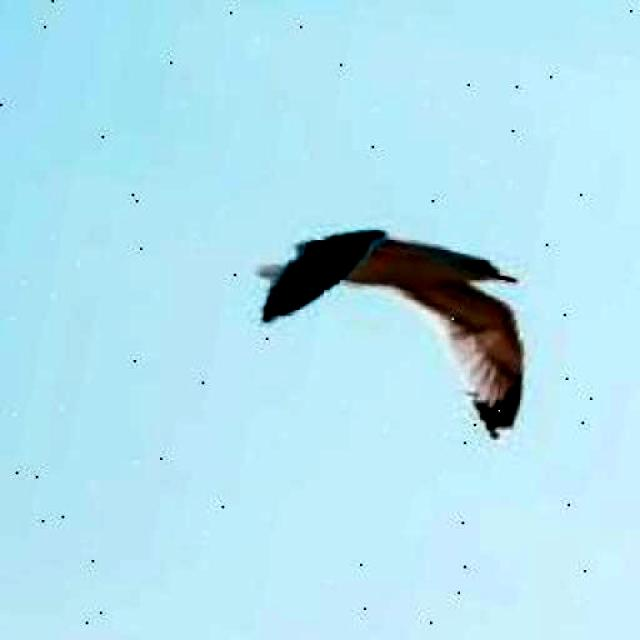airplane: (226, 202, 548, 442)
